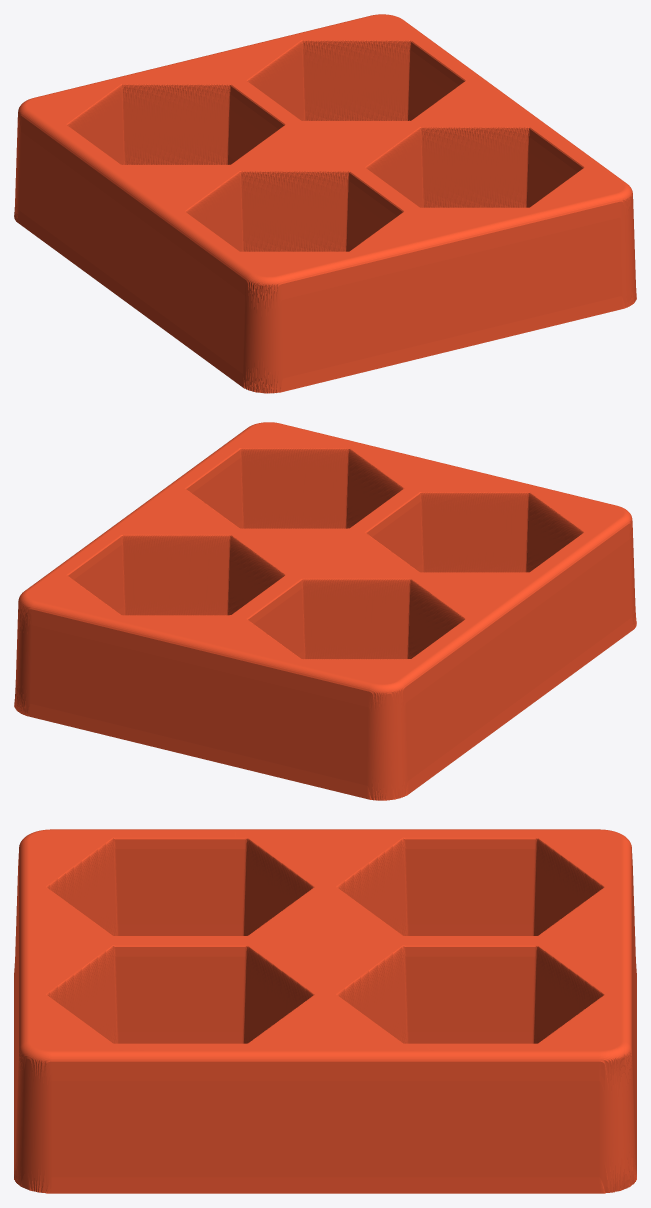
File: mold.glb
3 renders of one model, top to bottom at view 1: azimuth 30°, elevation 25°; view 2: azimuth 150°, elevation 25°; view 3: azimuth 270°, elevation 25°, orthographic. The views are drawn at different scales.
Visible parts, largest first — view 1: geometry_0; view 2: geometry_0; view 3: geometry_0.
Part boxes in pixels (<box>): geometry_0: <box>14,14,636,393</box>; geometry_0: <box>14,422,636,800</box>; geometry_0: <box>14,829,636,1193</box>.
Size of the model in its own units: 0.1322 by 0.036 by 0.1493.
